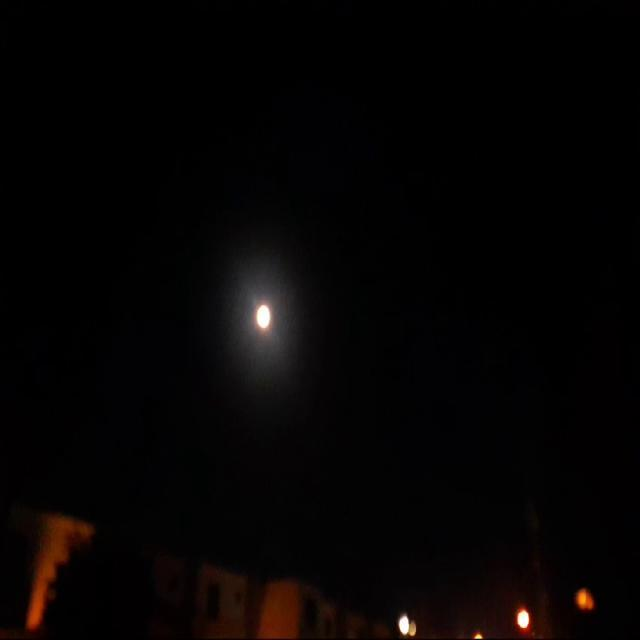moon: (243, 301, 265, 340)
